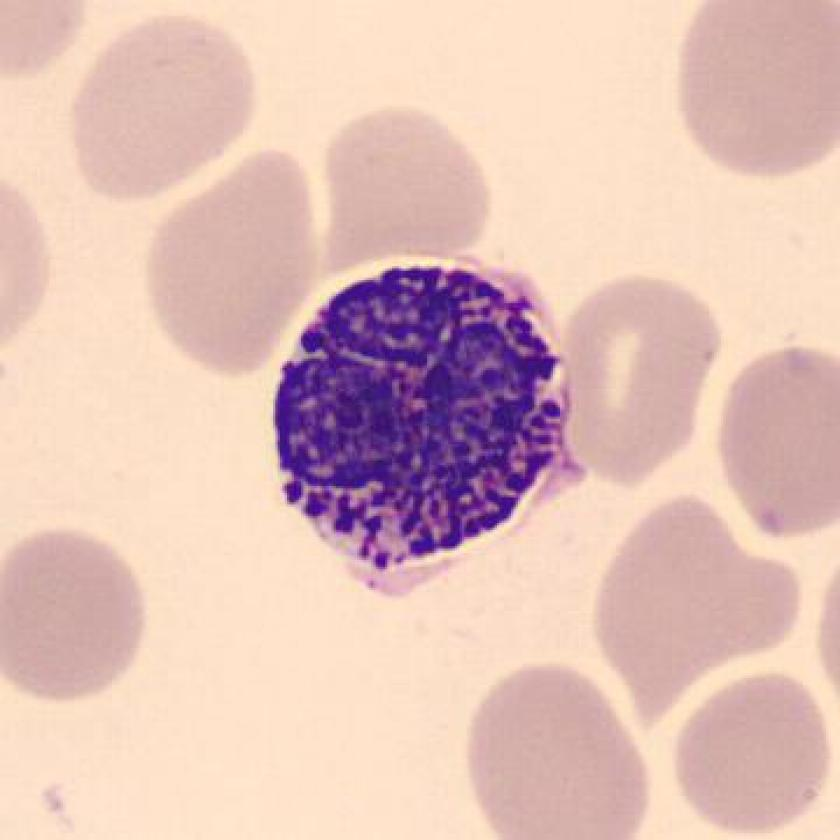basophil: (260, 249, 580, 580)
